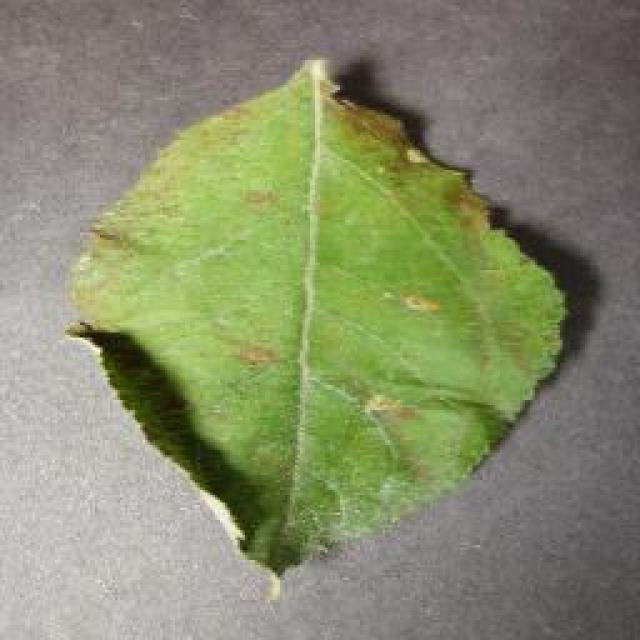Apple___Cedar_apple_rust: (54, 49, 572, 608)
